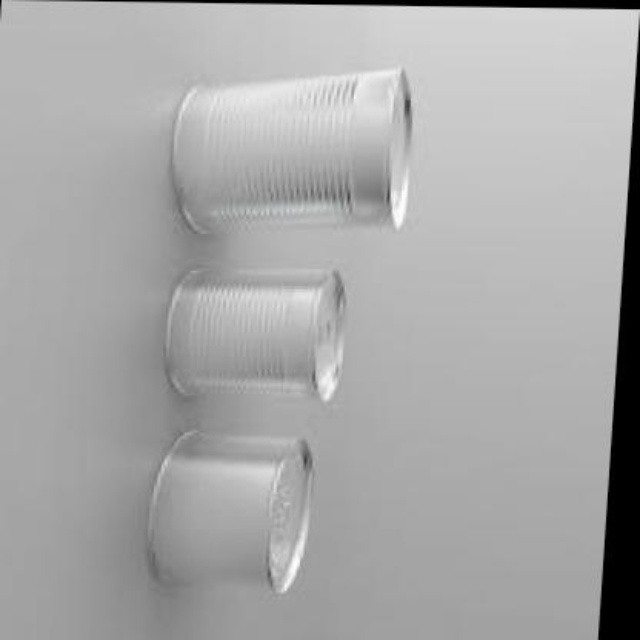trash: (172, 68, 411, 232), (148, 431, 311, 592), (166, 268, 343, 400)
